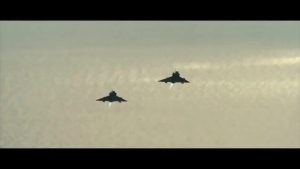flight: (94, 89, 128, 104), (157, 69, 190, 84)
